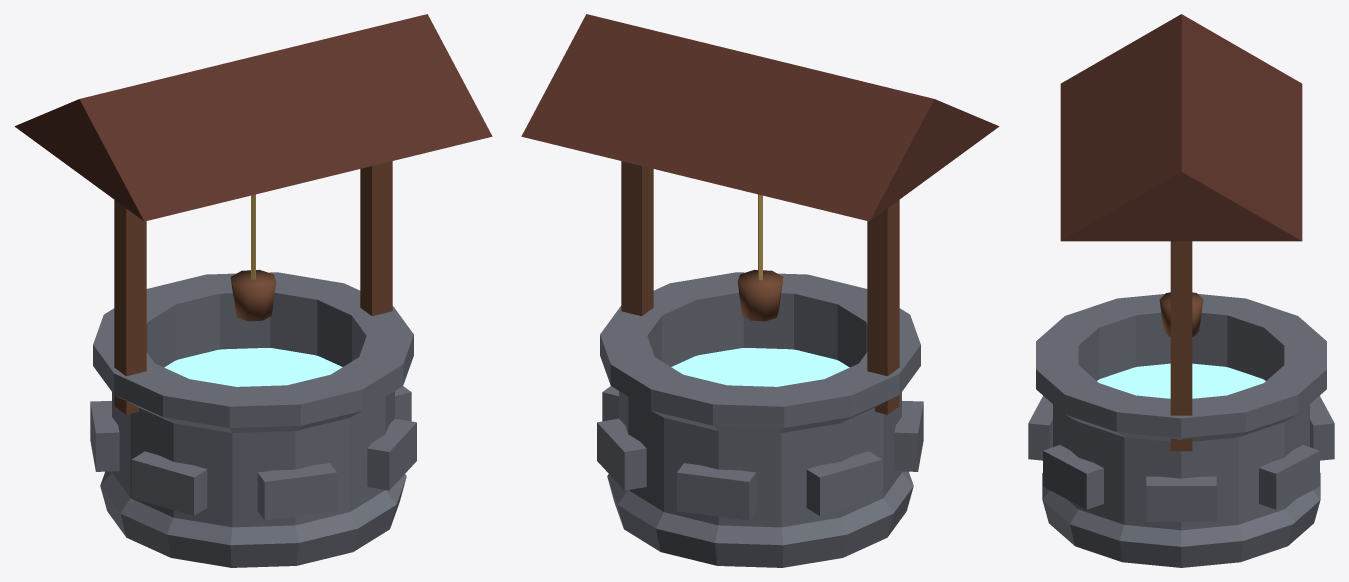
File: sumur.glb
The picture shows the model from 3 angles, left to right: view 1: azimuth 30°, elevation 25°; view 2: azimuth 150°, elevation 25°; view 3: azimuth 270°, elevation 25°; orthographic projection. The views are drawn at different scales.
Parts seen in each view (by area): view 1: sumur_mesh; view 2: sumur_mesh; view 3: sumur_mesh.
Part boxes in pixels (x1,y1,x2,y2): sumur_mesh: (14, 14, 492, 567); sumur_mesh: (521, 14, 999, 567); sumur_mesh: (1028, 14, 1334, 567).
Size of the model in its own units: 1.7 by 2.1 by 1.4.
